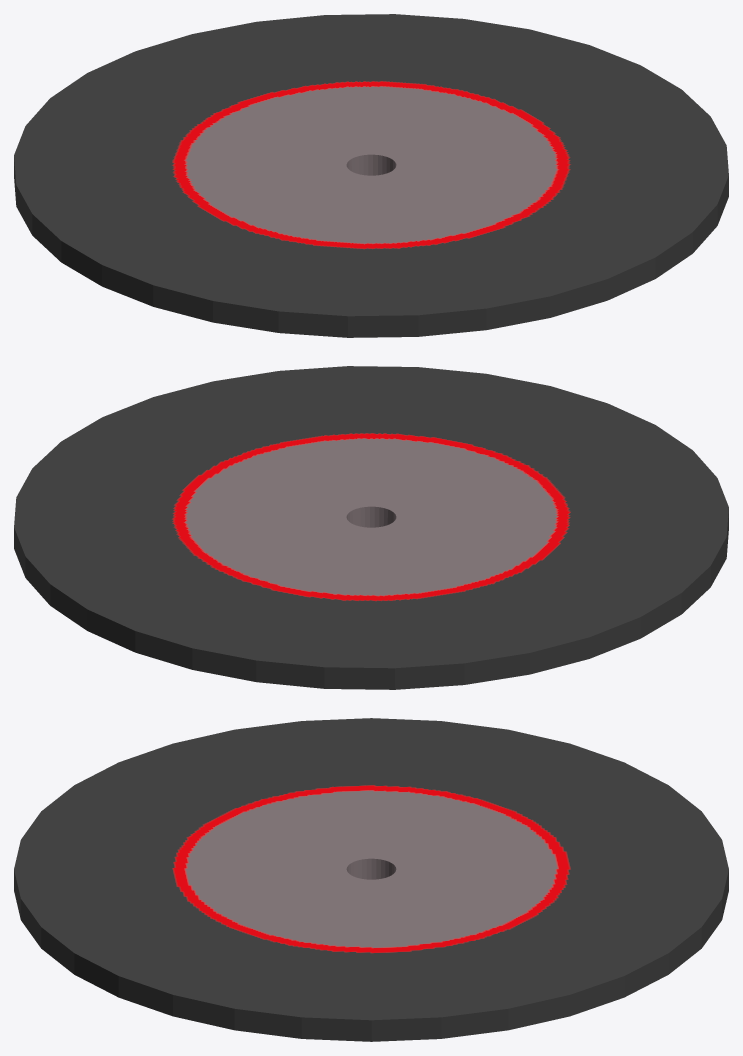
Rendered from vinyl_record_red.fbx.
The picture shows the model from 3 angles, top to bottom: view 1: azimuth 30°, elevation 25°; view 2: azimuth 150°, elevation 25°; view 3: azimuth 270°, elevation 25°; orthographic projection.
Visible parts, largest first — view 1: vinyl_record_red_Baked; view 2: vinyl_record_red_Baked; view 3: vinyl_record_red_Baked.
Boxes of the visible parts, left/top/right/bottom form: vinyl_record_red_Baked: left=14, top=14, right=728, bottom=337; vinyl_record_red_Baked: left=14, top=366, right=728, bottom=689; vinyl_record_red_Baked: left=14, top=718, right=728, bottom=1041.
Size of the model in its own units: 30 by 1 by 30.
Materials: 1 (1 with a texture image).
